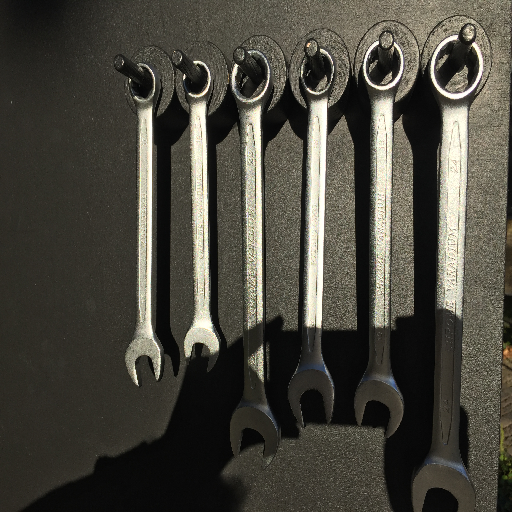bottom: (410, 455, 481, 512), (353, 372, 405, 441), (228, 402, 281, 468), (285, 364, 334, 430), (124, 332, 164, 388), (182, 322, 222, 373)
top: (426, 33, 484, 106), (229, 48, 274, 110), (362, 38, 405, 96), (298, 47, 337, 102), (126, 61, 162, 107), (181, 58, 214, 108)
